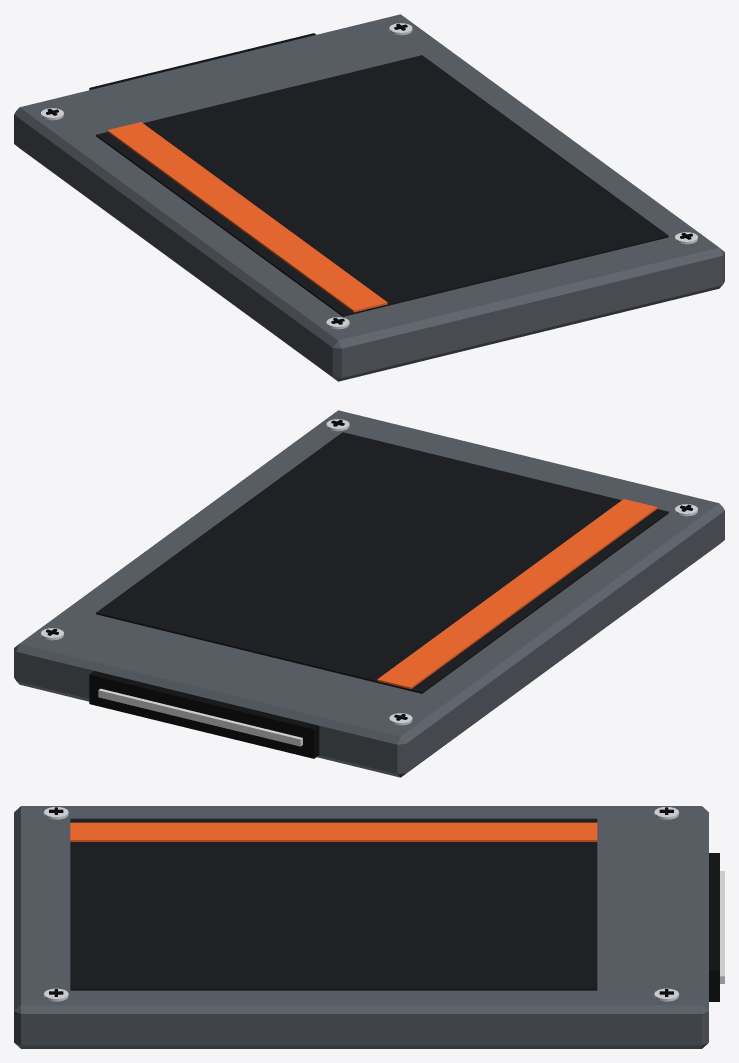
The model's file is hw_sto_ssd_4tb.glb.
3 views of the same model, one above another, from view 1: azimuth 30°, elevation 25°; view 2: azimuth 150°, elevation 25°; view 3: azimuth 270°, elevation 25° (orthographic). The views are drawn at different scales.
Parts seen in each view (by area): view 1: Body; view 2: Body; view 3: Body.
Boxes of the visible parts, bbox=[...] form: Body: bbox=[14, 14, 724, 381]; Body: bbox=[14, 410, 724, 777]; Body: bbox=[14, 806, 724, 1048].
Bounding box in the file's own units: 0.0698 × 0.00767 × 0.1025.
